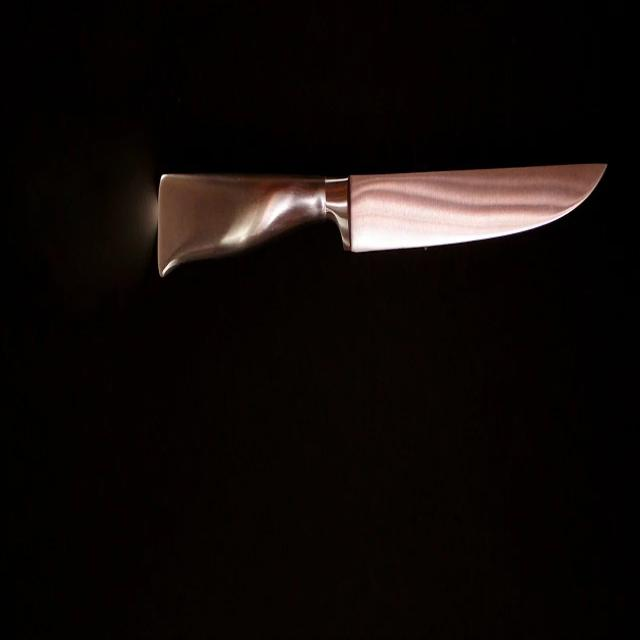Knife: (158, 165, 606, 275)
